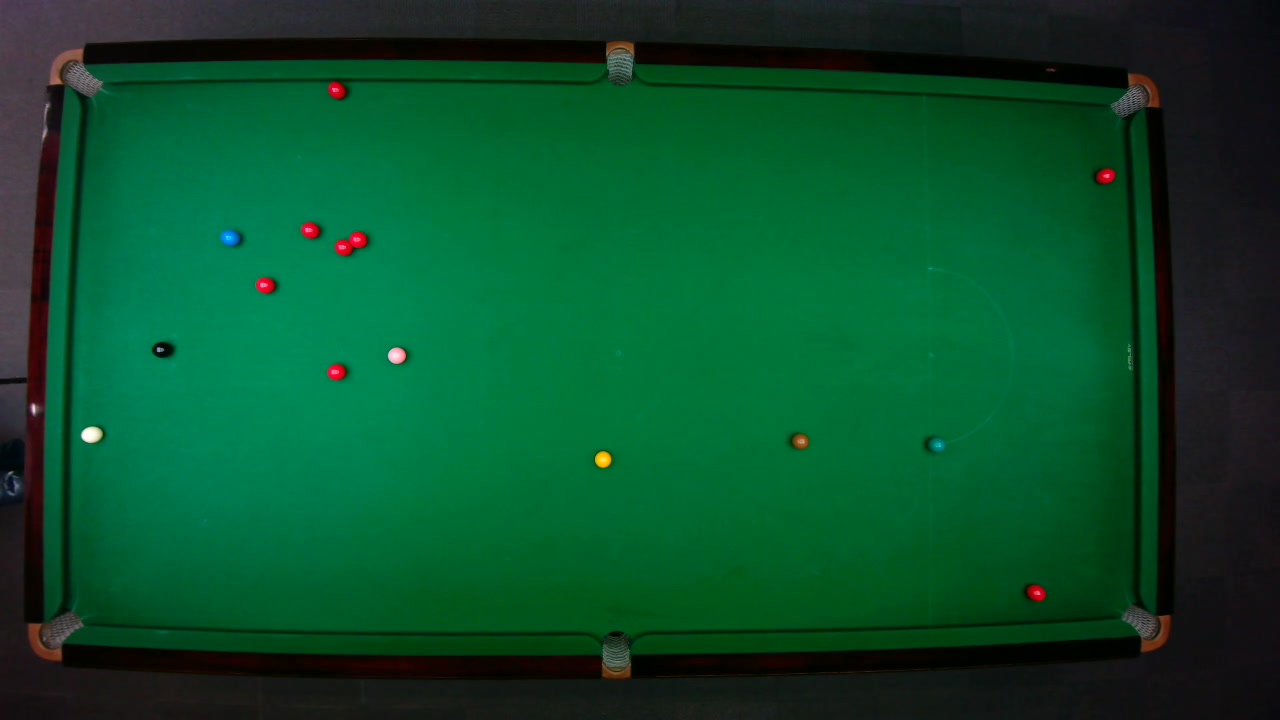bag: (25, 608, 84, 661), (46, 47, 103, 97), (1118, 602, 1171, 651), (1108, 72, 1160, 118), (601, 629, 630, 679), (605, 39, 633, 86)
black: (150, 340, 172, 358)
blue: (218, 228, 240, 246)
brown: (790, 432, 809, 449)
green: (926, 435, 945, 453)
pink: (386, 345, 406, 364)
red: (298, 220, 320, 239), (1024, 582, 1046, 601), (326, 79, 346, 99), (347, 229, 368, 248), (332, 237, 354, 255), (1094, 166, 1116, 184), (325, 362, 346, 380), (254, 276, 275, 293)
white: (79, 424, 104, 442)
yellow: (593, 449, 612, 468)
zone: (926, 266, 1013, 444)
